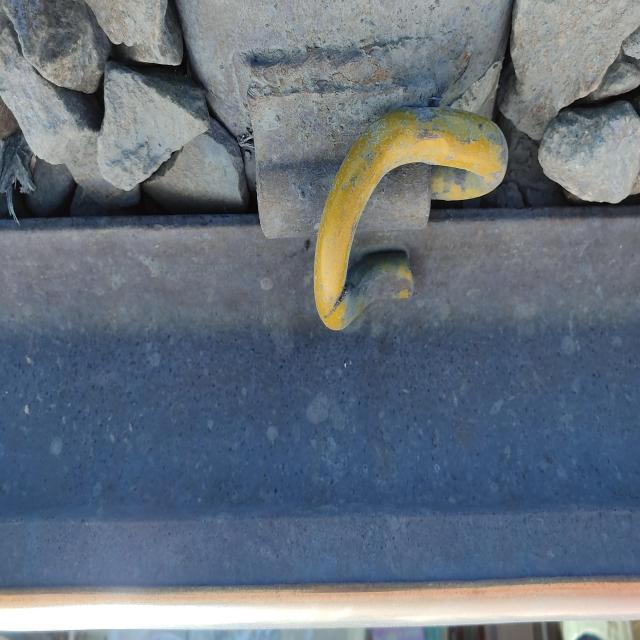Good Fasteners: (235, 16, 509, 329)
